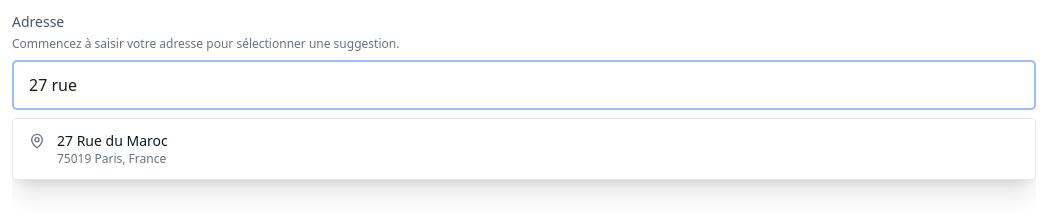
Scenario: AddressAutocomplete › conserve la sélection active lorsque le blur précède le clic sur une suggestion
The width and height of the screenshot is (1048, 214).
Later steps or results of the test are not shown.
Press the mouse on the option "27 Rue du Maroc 75019 Paris, France" at (112, 140), box [17, 123, 1031, 175]
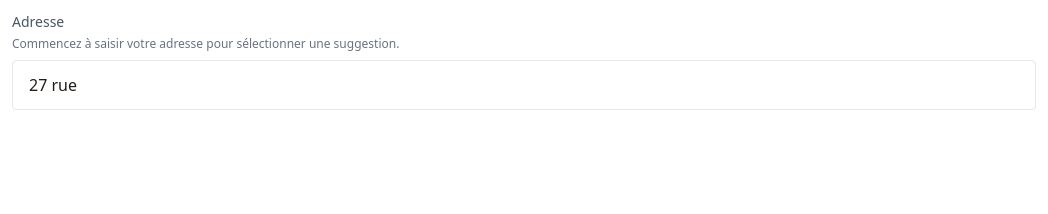
Result: the option "27 Rue du Maroc" is gone
